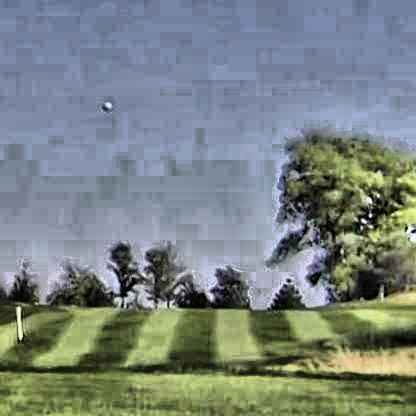golfball: (99, 98, 109, 109)
